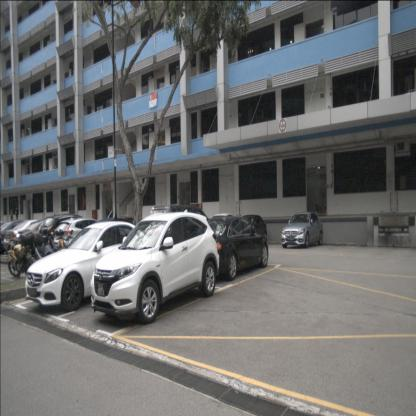human-pedestrian-adult: (15, 206, 19, 225), (10, 209, 13, 225)
vehicle-car: (90, 211, 220, 324), (25, 221, 156, 312), (196, 216, 268, 282), (147, 204, 218, 260), (53, 218, 113, 262), (38, 214, 91, 257), (4, 219, 56, 258), (280, 212, 324, 248), (0, 221, 42, 256), (235, 215, 268, 249)
vehicle-motorcycle: (36, 226, 73, 271), (6, 233, 37, 280)
